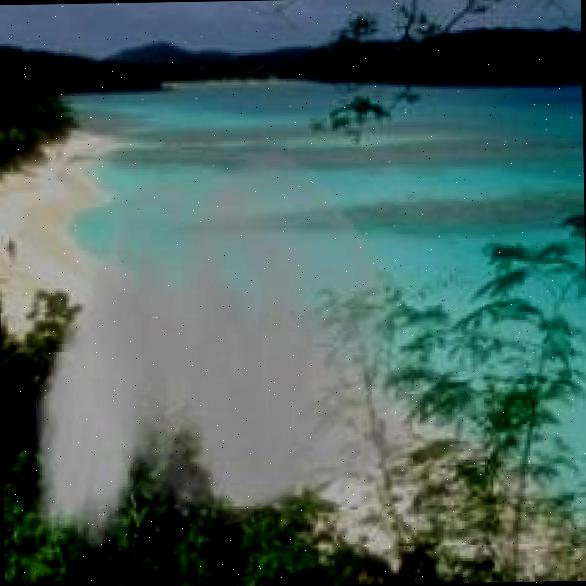smoke: (21, 136, 414, 562)
